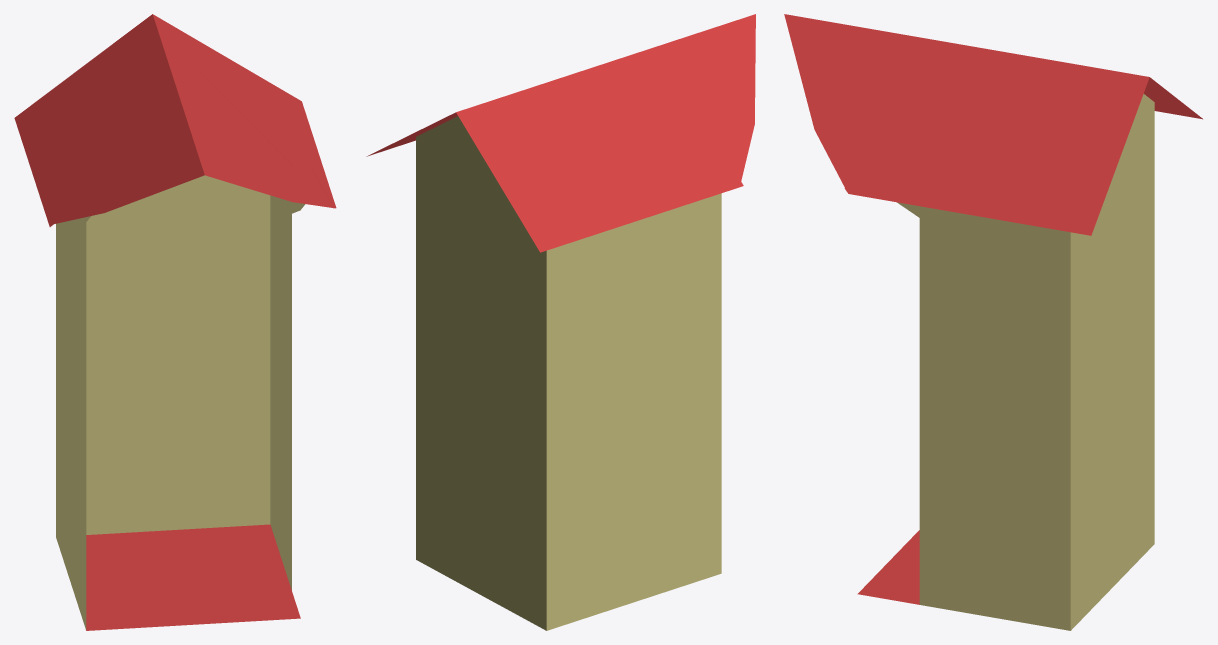
3 renders of one model, left to right at view 1: azimuth 30°, elevation 25°; view 2: azimuth 150°, elevation 25°; view 3: azimuth 270°, elevation 25°, orthographic. The views are drawn at different scales.
Size of the model in its own units: 9.98 by 11.12 by 15.03.
